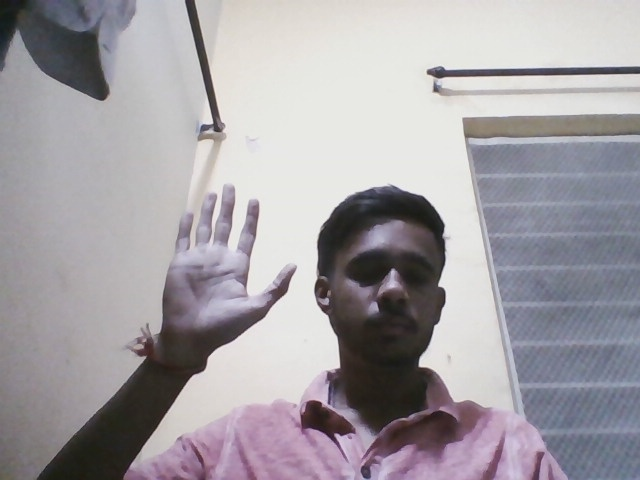hello: (156, 181, 305, 344)
